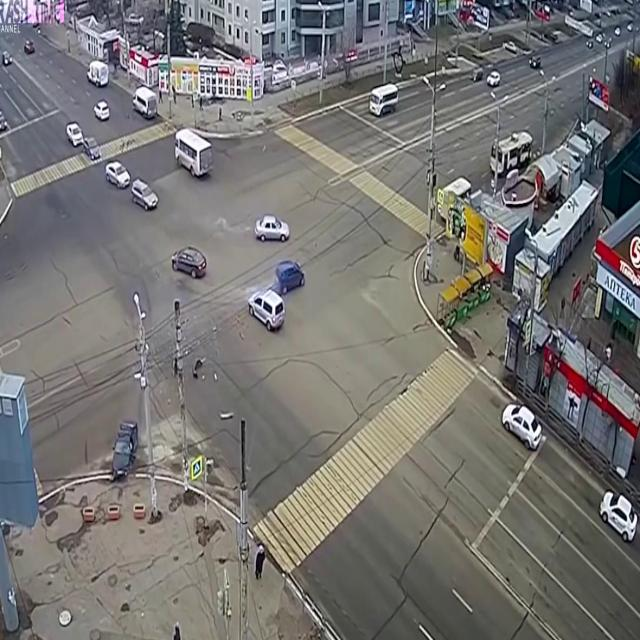accident: (244, 256, 309, 340), (106, 402, 146, 500)
non_accident: (63, 116, 104, 164)
